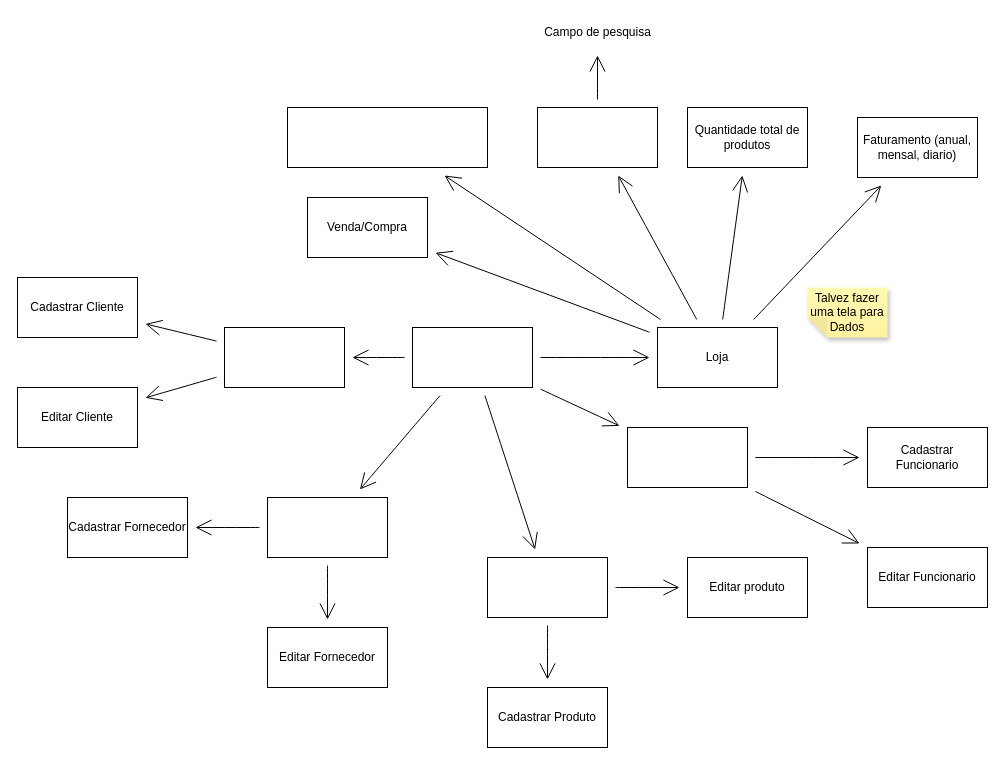
Image size: 1005x765. Some labels were removed from this diagram. The shapes that lost their labels are listed below. From the top down, each one's centre as x and y in pixels, then its label:
At (x=387, y=137): "Quantidade de Clientes/Fornecedores/Funcionarios".
At (x=597, y=137): "Quantidade de produtos por categoria ou tipo".
At (x=284, y=357): "Cliente".
At (x=472, y=357): "Tela Inicial".
At (x=687, y=457): "Funcionario".
At (x=327, y=527): "Fornecedor".
At (x=547, y=587): "Produtos".
